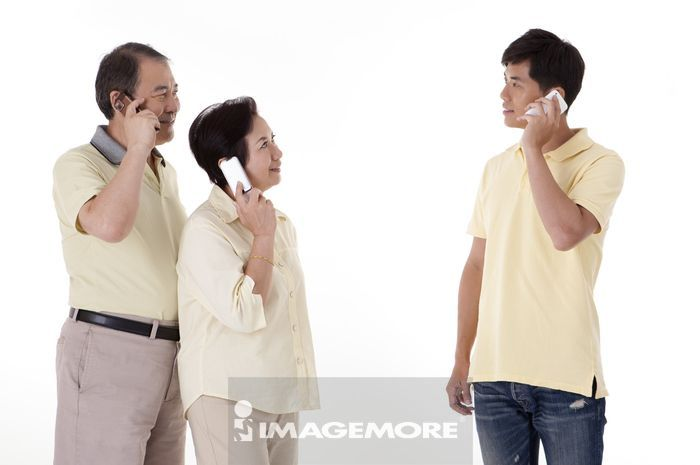phone: (224, 157, 267, 218), (527, 88, 567, 131), (113, 95, 156, 132)
talk: (223, 129, 284, 239), (503, 73, 567, 155), (111, 81, 180, 156)
